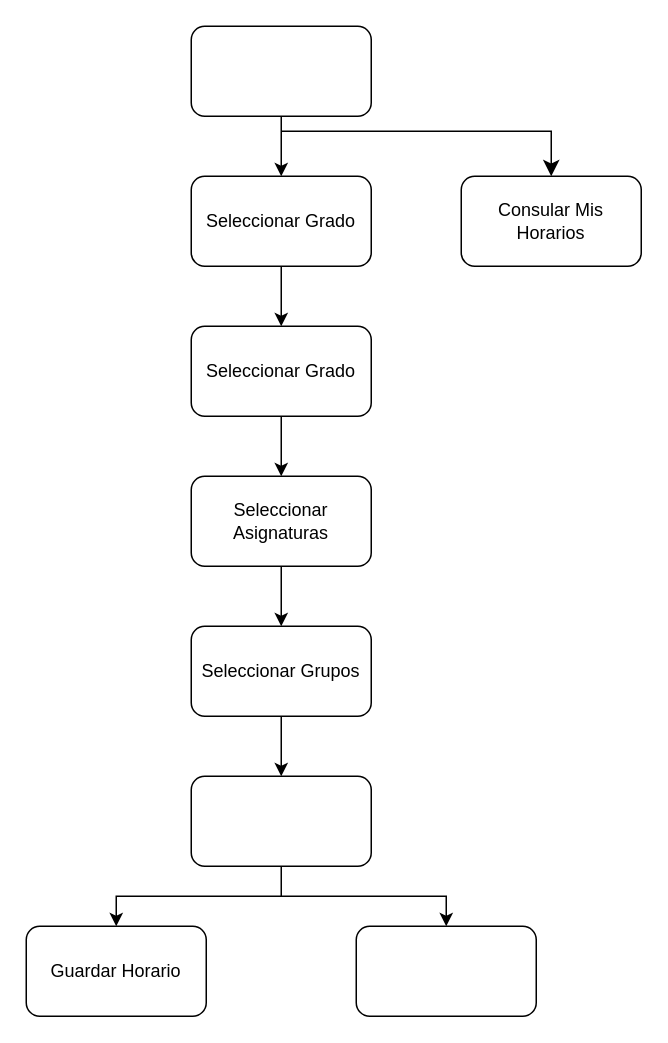
This 668x1043 diagram has some shape labels left out. Here are the shapes that lost their labels. From the top down, the box of each, then its label:
(190, 25, 371, 116): Inicio Sesión
(190, 775, 371, 866): Consultar Horarios
(355, 925, 536, 1016): Descargar Horario
